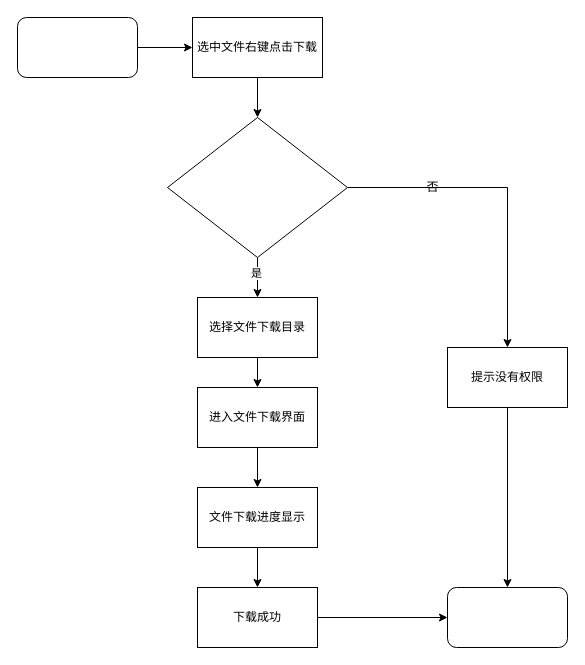
Some shapes in this 585 by 665 pixel diagram are drawn without their labels. The box of each missing label's shape, as (x1, y1, x2, y2) in pixels:
开始: (16, 16, 138, 78)
结束: (446, 586, 568, 648)
鉴别用户是否拥有下载权限: (166, 116, 348, 258)
